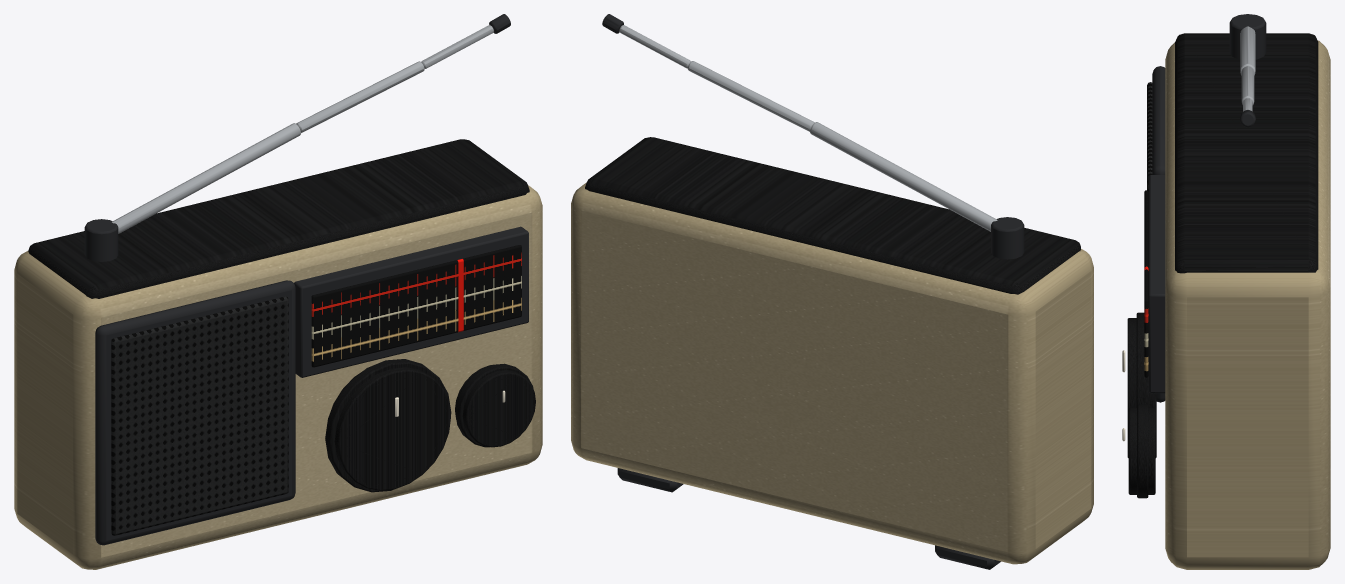
The model's file is RadioLowPoly.glb.
3 views of the same model, side by side, from view 1: azimuth 30°, elevation 25°; view 2: azimuth 150°, elevation 25°; view 3: azimuth 270°, elevation 25° (orthographic). The views are drawn at different scales.
Visible parts, largest first — view 1: Radio_Body, Speaker_Grille, Top_Black_Band, Frequency_Display, Tuning_Knob_Large, Speaker_Border, Telescopic_Antenna, Volume_Knob_Small; view 2: Radio_Body, Top_Black_Band, Telescopic_Antenna, Foot_Right, Foot_Left; view 3: Radio_Body, Top_Black_Band, Frequency_Display, Volume_Knob_Small, Telescopic_Antenna, Tuning_Knob_Large, Speaker_Border, Speaker_Grille.
Part boxes in pixels (x1,y1,x2,y2): Radio_Body: (14, 185, 542, 569); Speaker_Grille: (111, 296, 288, 535); Top_Black_Band: (28, 139, 529, 298); Frequency_Display: (294, 226, 528, 377); Tuning_Knob_Large: (325, 359, 451, 492); Speaker_Border: (95, 280, 295, 545); Telescopic_Antenna: (84, 14, 510, 261); Volume_Knob_Small: (455, 363, 535, 447); Radio_Body: (571, 182, 1093, 564); Top_Black_Band: (585, 137, 1080, 294); Telescopic_Antenna: (602, 14, 1024, 259); Foot_Right: (617, 468, 683, 492); Foot_Left: (935, 545, 1000, 569); Radio_Body: (1165, 40, 1330, 569); Top_Black_Band: (1175, 33, 1318, 273); Frequency_Display: (1144, 175, 1165, 393); Volume_Knob_Small: (1122, 404, 1155, 498); Telescopic_Antenna: (1229, 14, 1266, 127); Tuning_Knob_Large: (1122, 312, 1156, 457); Speaker_Border: (1152, 66, 1165, 402); Speaker_Grille: (1147, 82, 1152, 191).
Size of the model in its own units: 4.8 by 4.34 by 1.71.
7 materials, 4 textured.
